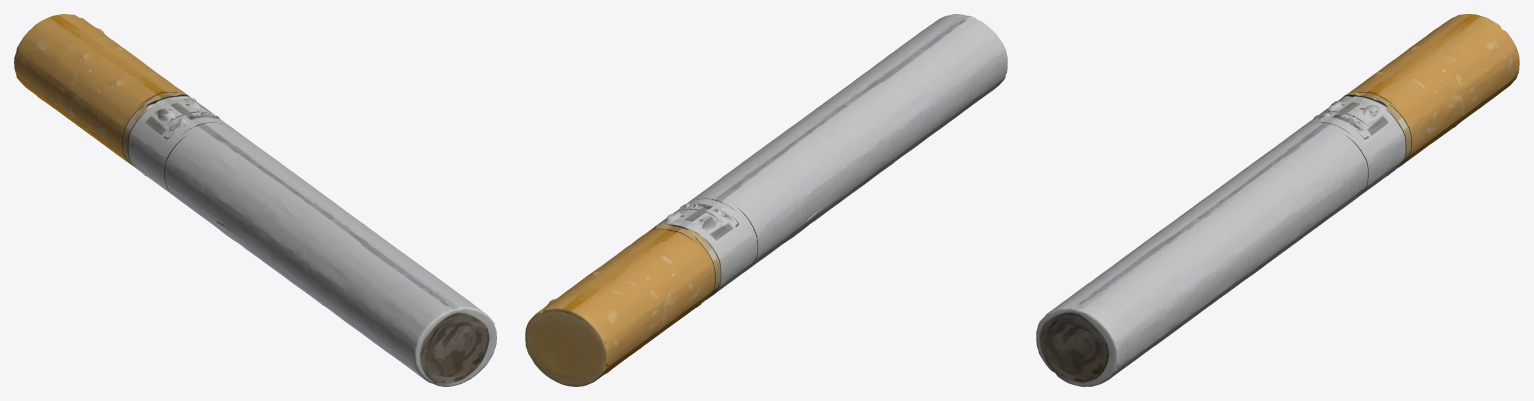
Rendered from Cigarrete.fbx.
The picture shows the model from 3 angles, left to right: view 1: azimuth 30°, elevation 25°; view 2: azimuth 150°, elevation 25°; view 3: azimuth 330°, elevation 25°; orthographic projection.
Visible parts, largest first — view 1: tripo_node_785a5675; view 2: tripo_node_785a5675; view 3: tripo_node_785a5675.
Part boxes in pixels (x1=…): tripo_node_785a5675: x1=14, y1=14, x2=496, y2=386; tripo_node_785a5675: x1=525, y1=14, x2=1007, y2=386; tripo_node_785a5675: x1=1036, y1=14, x2=1519, y2=386.
Bounding box in the file's own units: 11.84 × 100 × 10.86.
Materials: 1 (1 with a texture image).
